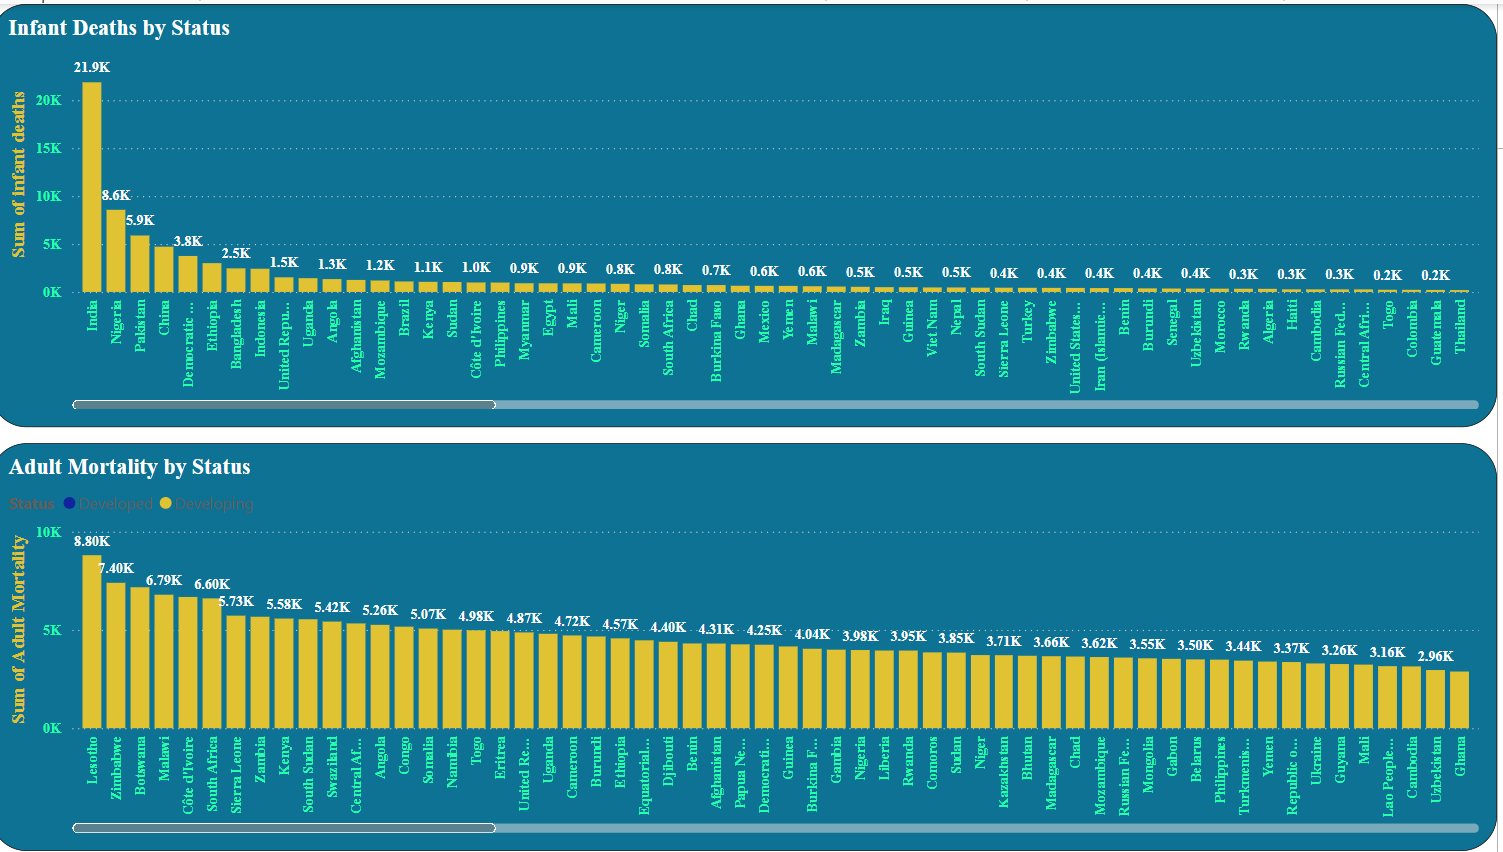

This screenshot's page, from the dashboard's own definition file:
{"tool":"powerbi","page":{"name":"Page 2","canvas":[1280,720],"ordinal":1},"visuals":[{"type":"columnChart","title":"Adult Mortality by Status","fields":{"Y":["Sum(Life Expectancy Data.Adult Mortality)"],"Series":["Life Expectancy Data.Status"],"Category":["Life Expectancy Data.Country"]},"box":[0,373.1,1279.8,346.3],"z":0},{"type":"columnChart","title":"Infant Deaths by Status","fields":{"Category":["Life Expectancy Data.Country"],"Y":["Sum(Life Expectancy Data.infant deaths)"]},"box":[0,0,1279.8,359.7],"z":1}]}

Visuals, with their boxes in screenshot pixels (x1, y1, x2, y2), scaled from the page's 1280x720 canvas onto the 1503x852 screenshot:
"Adult Mortality by Status" columnChart: rect(0, 442, 1502, 851)
"Infant Deaths by Status" columnChart: rect(0, 0, 1502, 426)
